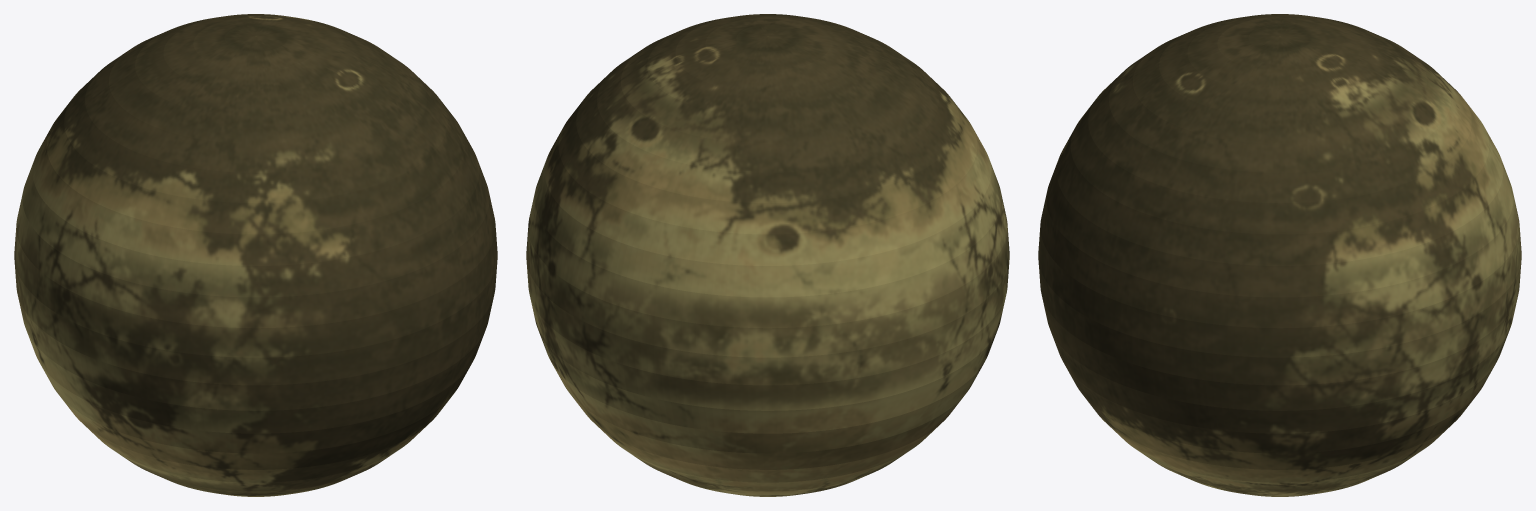
Rendered from planete1.gltf.
3 views of the same model, side by side, from view 1: azimuth 30°, elevation 25°; view 2: azimuth 150°, elevation 25°; view 3: azimuth 270°, elevation 25° (orthographic).
Visible parts, largest first — view 1: planettest; view 2: planettest; view 3: planettest.
Part boxes in pixels (left/top/right/bottom): planettest: left=14, top=14, right=497, bottom=496; planettest: left=526, top=14, right=1009, bottom=496; planettest: left=1038, top=14, right=1521, bottom=496.
Size of the model in its own units: 10 by 10 by 10.
Materials: 1 (1 with a texture image).
